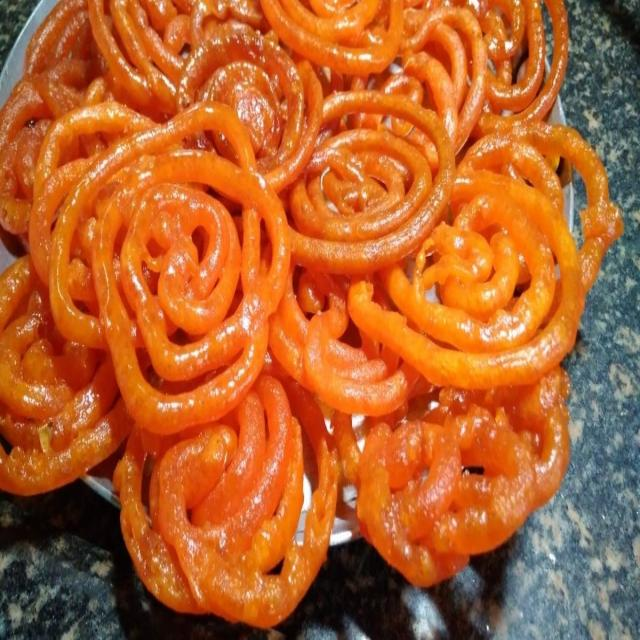jalebi: (2, 20, 595, 629)
